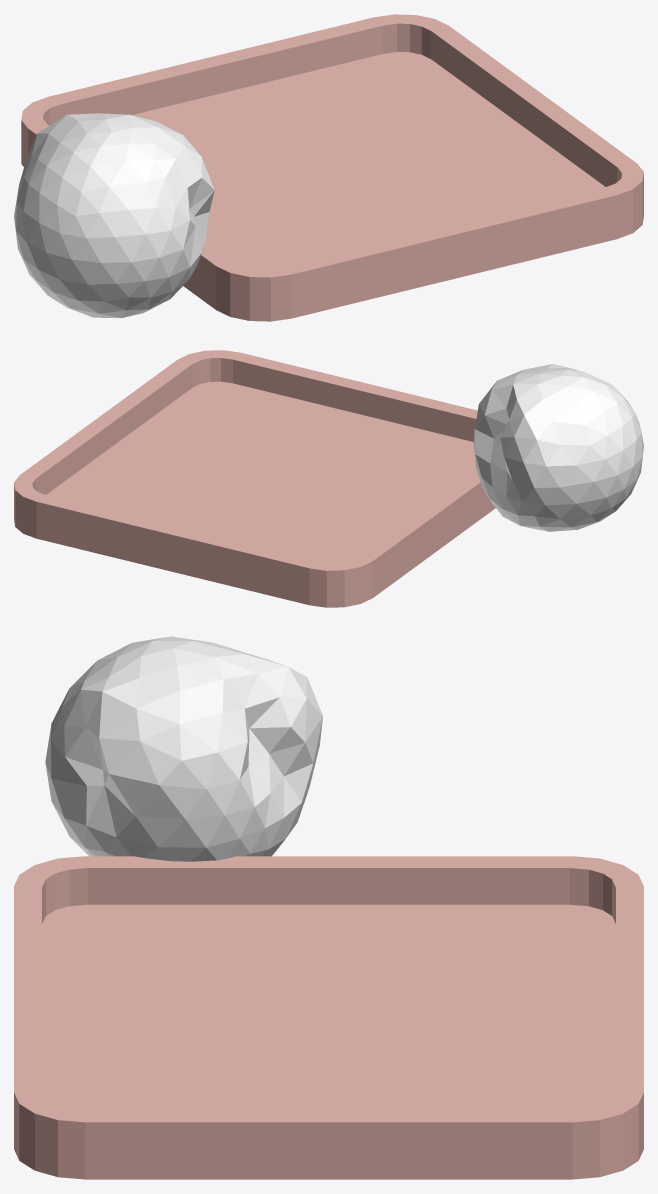
File: materialtest3.glb
The picture shows the model from 3 angles, top to bottom: view 1: azimuth 30°, elevation 25°; view 2: azimuth 150°, elevation 25°; view 3: azimuth 270°, elevation 25°; orthographic projection. The views are drawn at different scales.
Visible parts, largest first — view 1: Cube, Icosphere; view 2: Cube, Icosphere; view 3: Cube, Icosphere.
Part boxes in pixels (box(x1,y1,x2,y2)): Cube: box(21, 14, 643, 321); Icosphere: box(14, 113, 214, 317); Cube: box(14, 350, 495, 607); Icosphere: box(473, 364, 643, 531); Cube: box(14, 856, 643, 1179); Icosphere: box(45, 636, 322, 861).
Size of the model in its own units: 1.37 by 0.4013 by 1.
